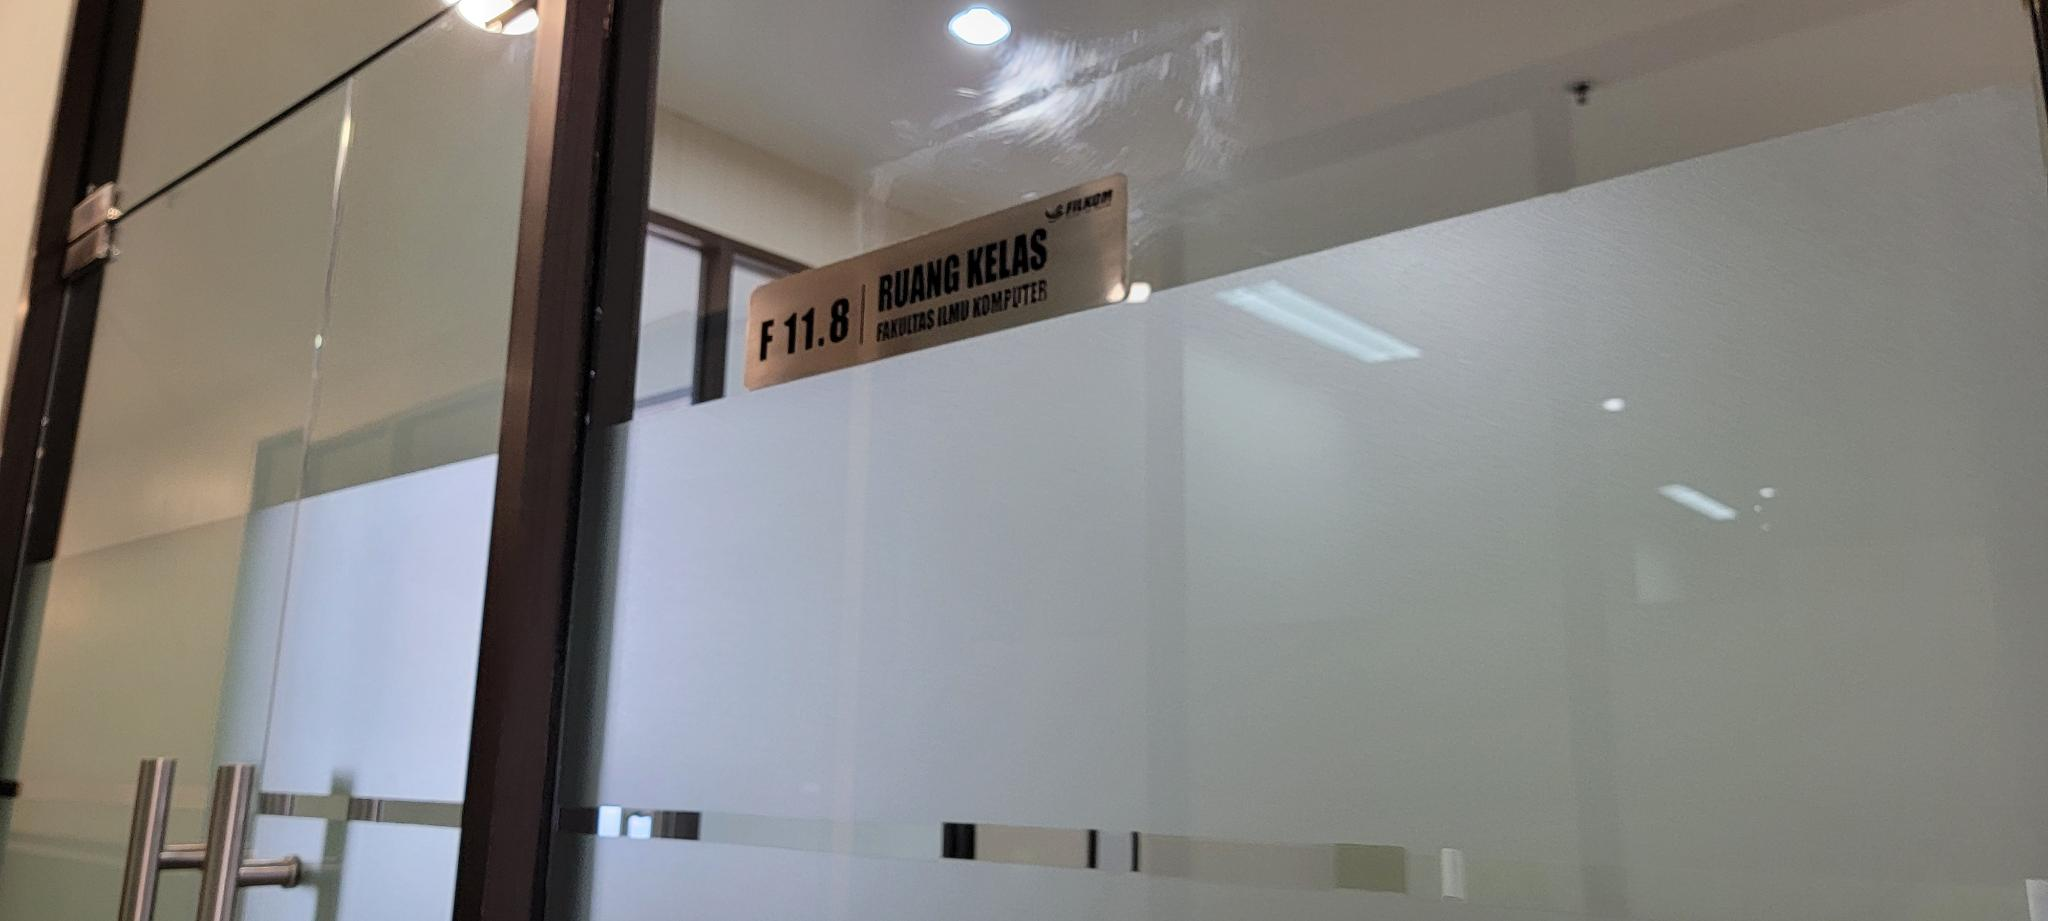plate: (737, 174, 1131, 395)
